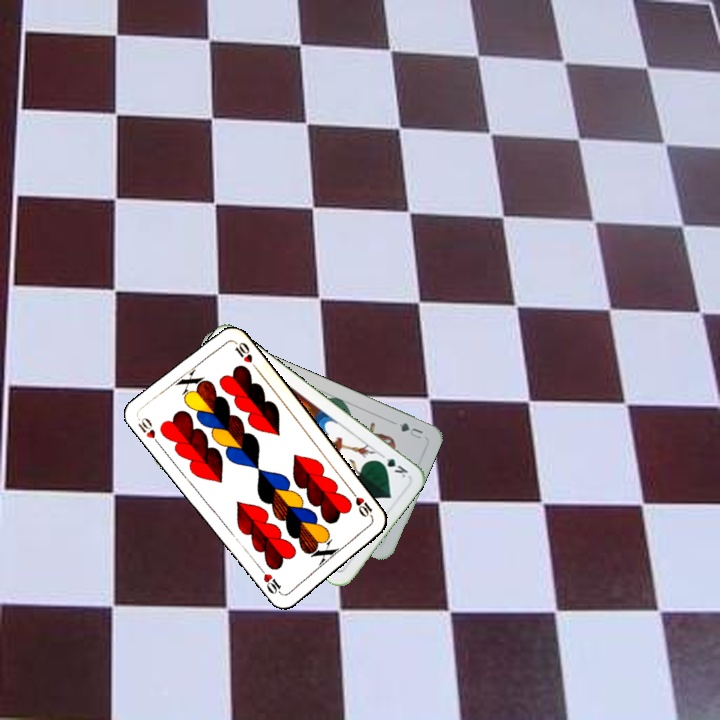GK: (373, 454, 410, 480)
GU: (395, 418, 426, 442)
H10: (134, 413, 164, 449), (347, 486, 376, 521)
